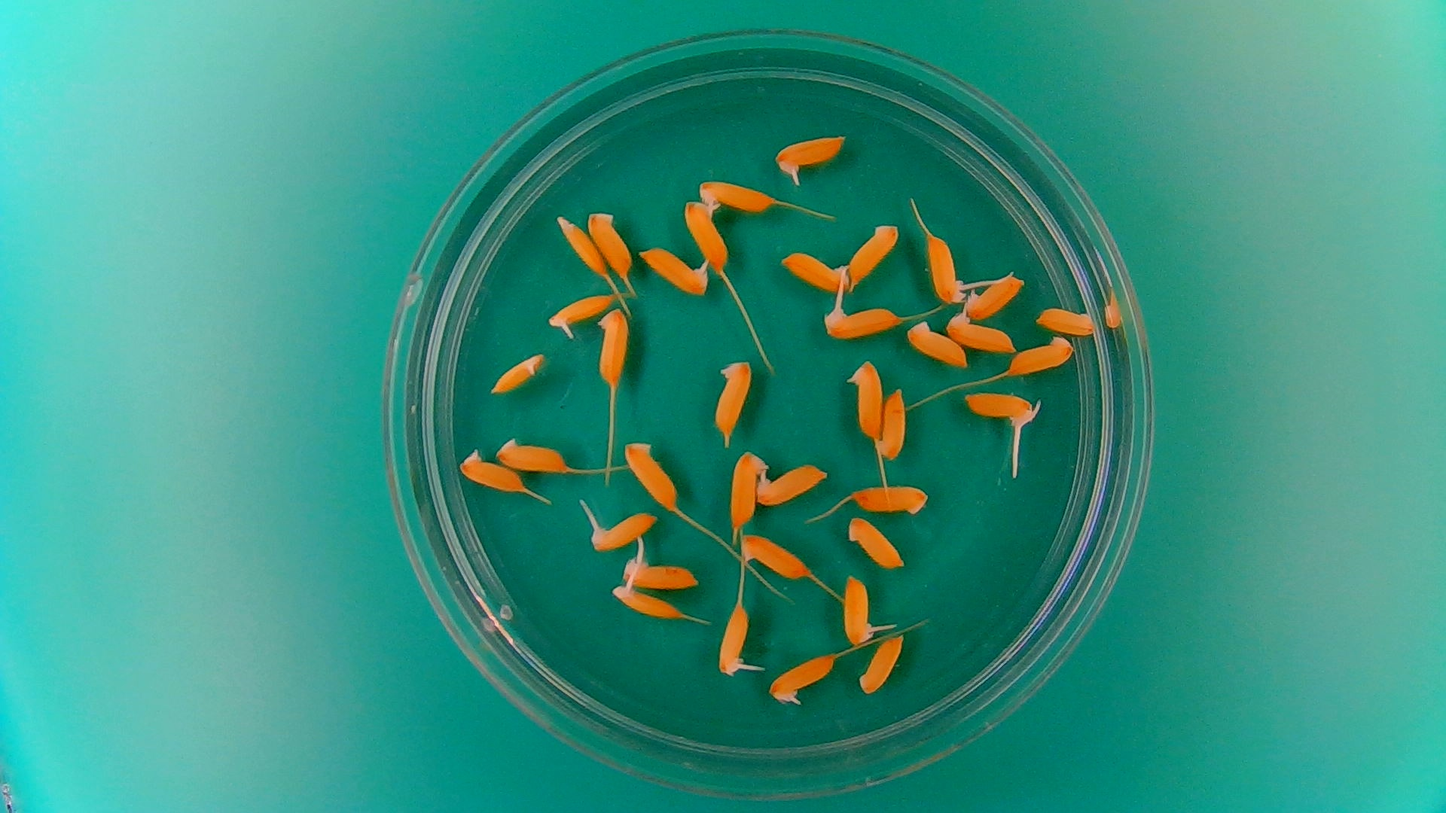no: (622, 437, 679, 510), (736, 531, 812, 580), (555, 214, 609, 279), (847, 220, 901, 285), (712, 358, 754, 441), (456, 448, 529, 495), (844, 516, 907, 570), (962, 270, 1027, 322), (904, 318, 969, 370), (587, 206, 634, 276), (728, 449, 768, 528), (779, 248, 849, 292), (494, 434, 572, 473), (857, 634, 905, 695), (1008, 333, 1075, 376), (595, 305, 630, 385), (850, 482, 932, 514), (875, 388, 908, 461), (1034, 303, 1098, 336)
yes: (771, 130, 847, 186), (607, 568, 685, 621), (944, 296, 1017, 352), (637, 243, 709, 297), (767, 651, 839, 705), (623, 544, 701, 591), (821, 297, 903, 341), (682, 196, 730, 271), (755, 460, 830, 506), (545, 291, 618, 338), (960, 388, 1042, 429), (695, 176, 776, 215), (841, 571, 882, 646), (587, 509, 658, 552), (926, 230, 966, 306), (846, 358, 883, 440), (714, 604, 753, 678), (488, 350, 548, 396)
